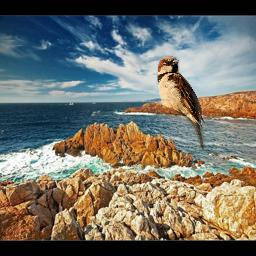Swallow: (156, 56, 205, 150)
